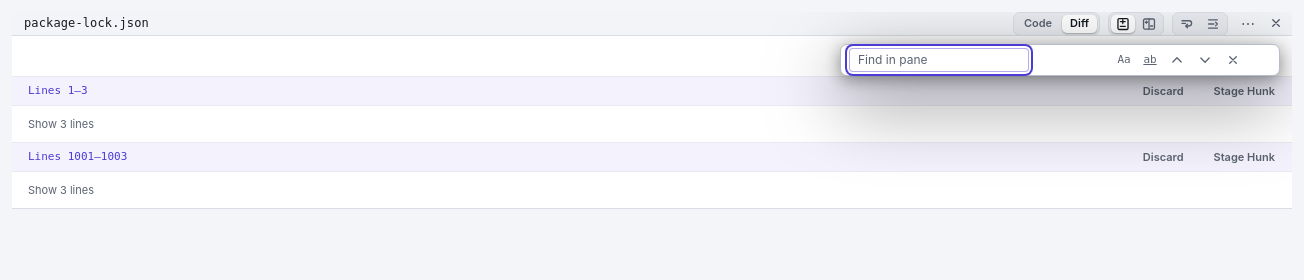
Test: finding in the diff › steps with Return and Shift+Return, round the ends
Expected: the element that starts with "Lines 1–3" is shown, [12,76,1292,209]
Type "\"v\"" into the field labelled "Find in pane" at [939, 60], box [849,48,1029,72]
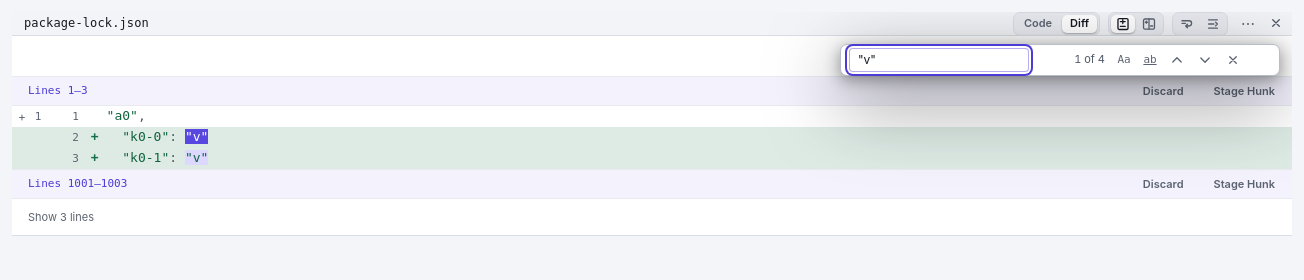
Now the message reads "1 of 4", box [1074,52,1105,66]
Press Enter Enter
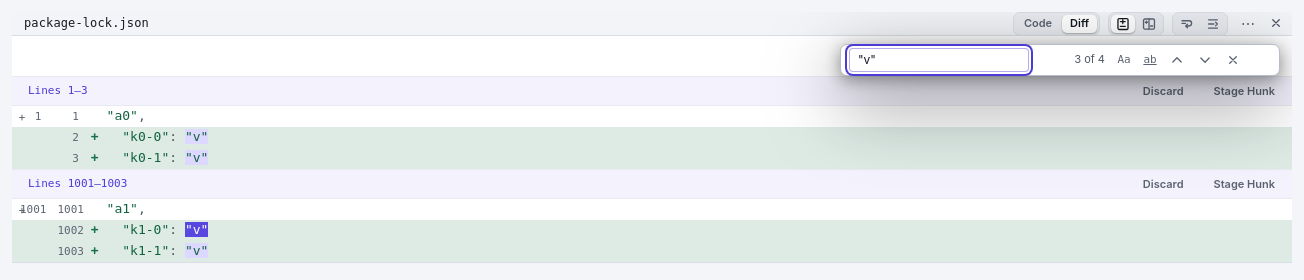
Now the message reads "3 of 4", box [1074,52,1105,66]
Now the button "Show " is gone
Type keys "{Shift>}{Enter}{/Shift}"
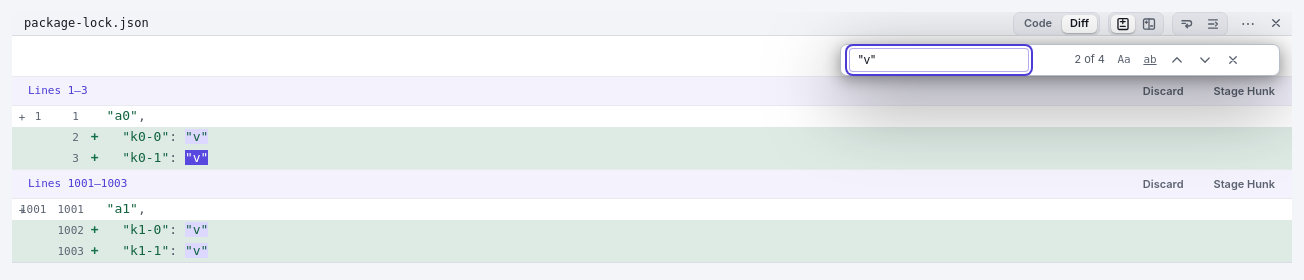
Now the message reads "2 of 4", box [1074,52,1105,66]
Press Enter Enter Enter
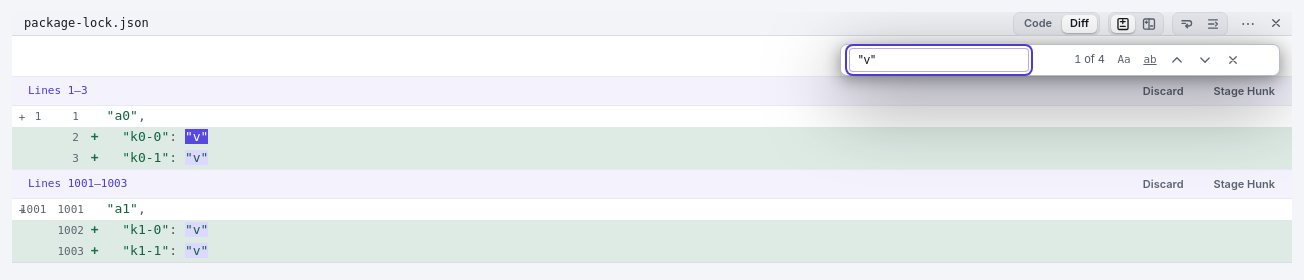
Now the message reads "1 of 4", box [1074,52,1105,66]
